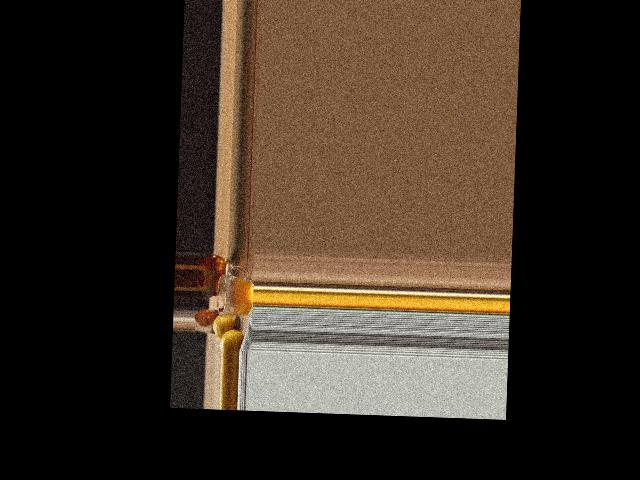lemon: (222, 331, 242, 350)
